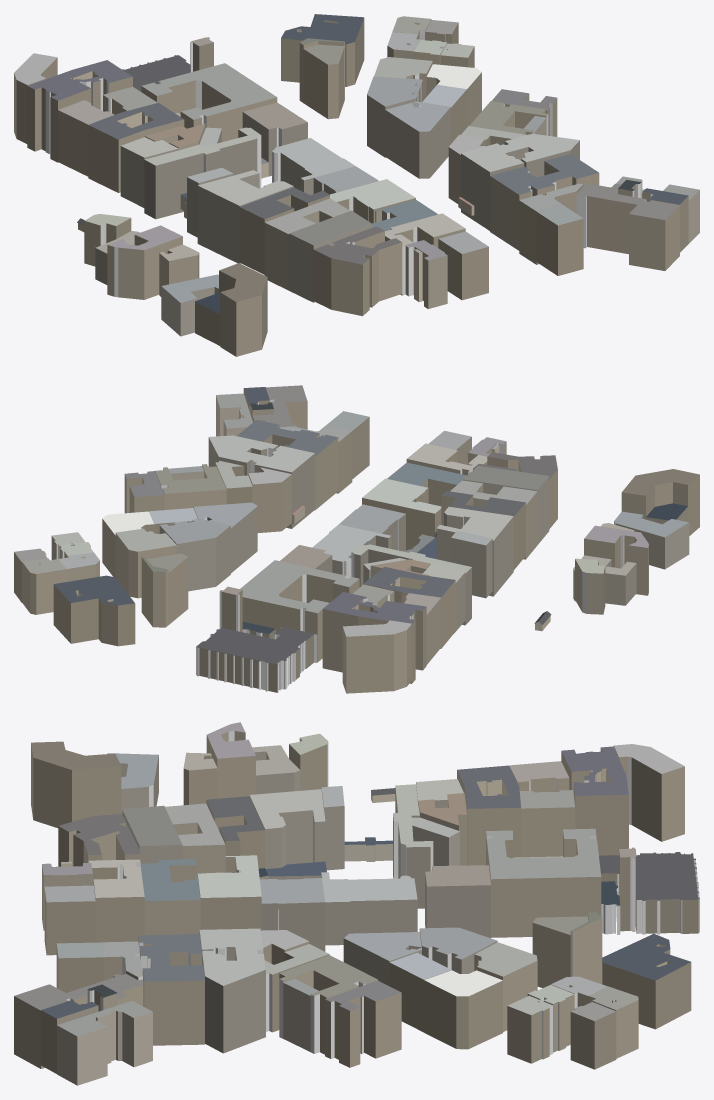
The picture shows the model from 3 angles, top to bottom: view 1: azimuth 30°, elevation 25°; view 2: azimuth 150°, elevation 25°; view 3: azimuth 270°, elevation 25°; orthographic projection. The views are drawn at different scales.
Parts seen in each view (by area): view 1: tuile; view 2: tuile; view 3: tuile.
Boxes of the visible parts, <box> form: tuile: <box>14,14,699,356</box>; tuile: <box>14,385,699,693</box>; tuile: <box>14,722,699,1085</box>.
Size of the model in its own units: 282 by 44.56 by 281.
